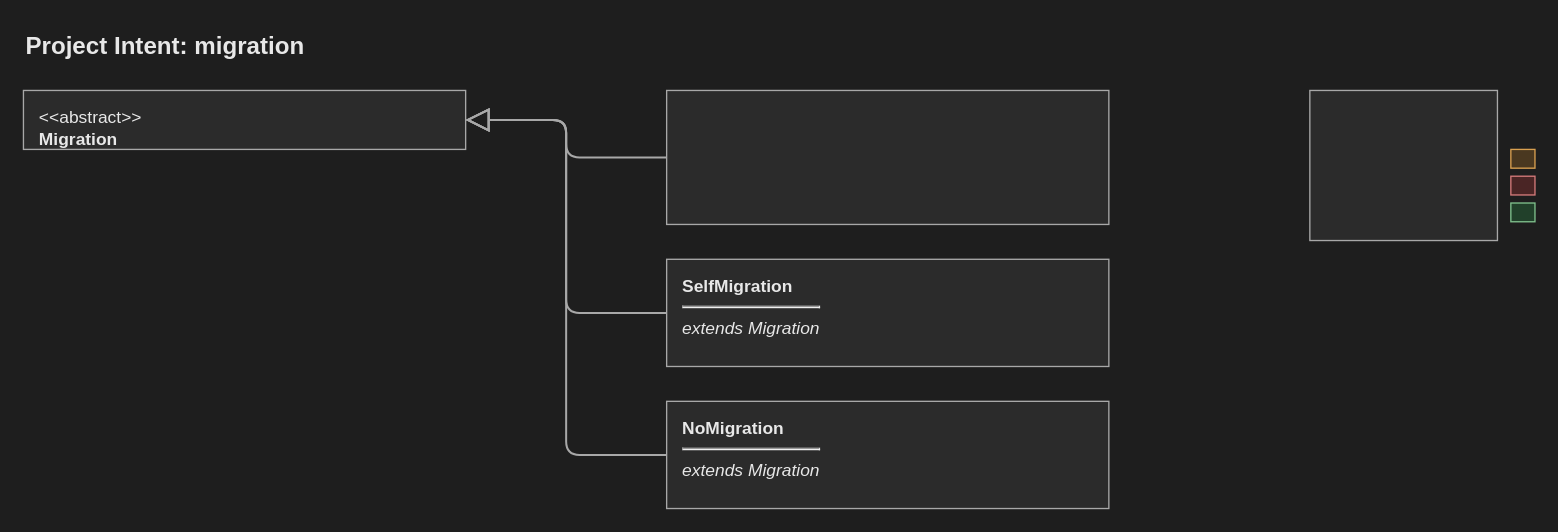
The diagram is 1558 pixels wide and 532 high, and some of its shapes have lost their labels. Here are the shapes that lost their labels. From the top down, the centre of each, then its label:
(x=887, y=156): ManagedMigration extends Migration changelog: String
(x=1403, y=165): Legend carried over changed removed new
